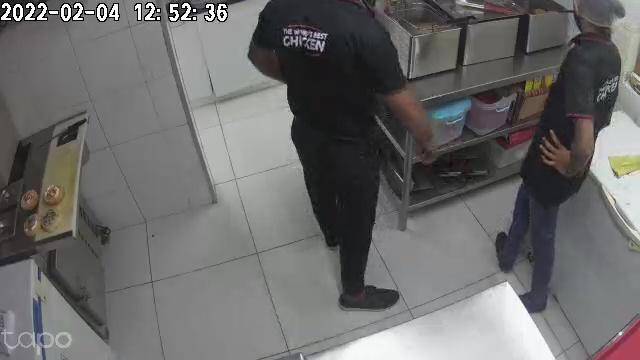no_gloves: (539, 131, 570, 173)
